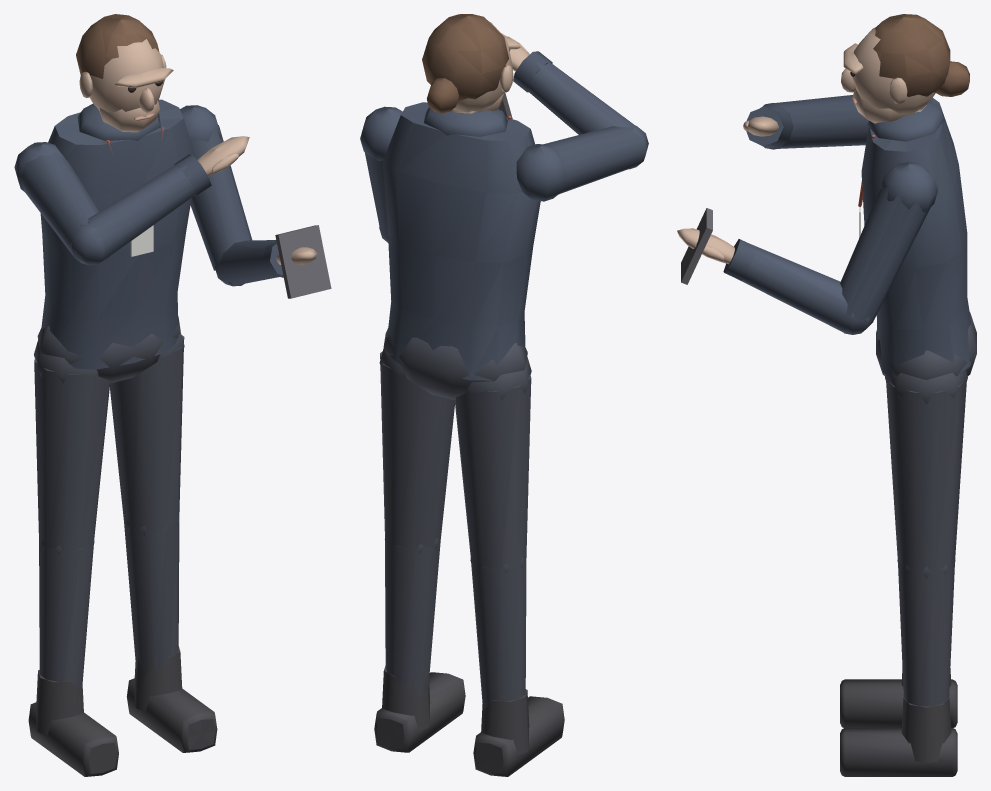
The model's file is rennick_knocking_a.glb.
The picture shows the model from 3 angles, left to right: view 1: azimuth 30°, elevation 25°; view 2: azimuth 150°, elevation 25°; view 3: azimuth 270°, elevation 25°; orthographic projection.
Parts seen in each view (by area): view 1: body; view 2: body; view 3: body.
Part boxes in pixels (left/top/right/bottom): body: left=14, top=14, right=331, bottom=776; body: left=360, top=14, right=648, bottom=776; body: left=677, top=14, right=976, bottom=776.
Size of the model in its own units: 0.5542 by 1.71 by 0.6383.
